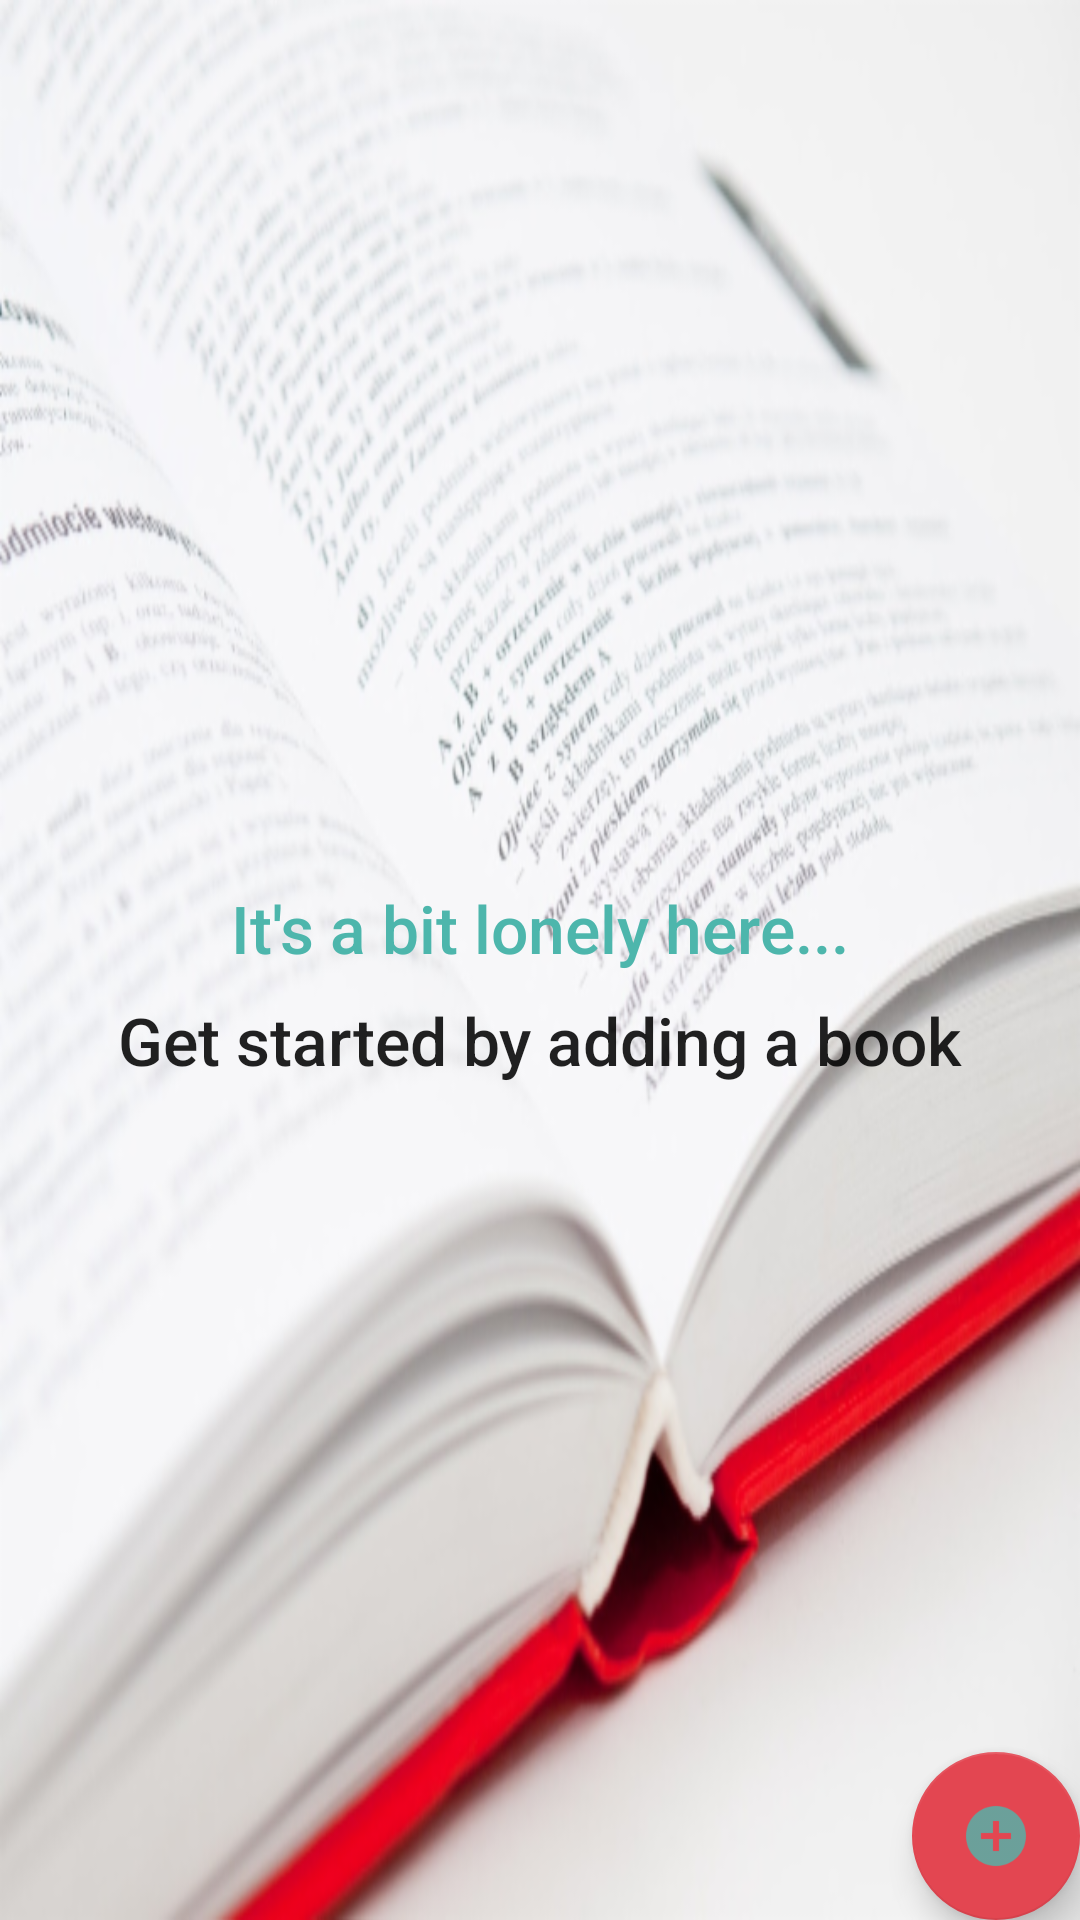

Locate icon controls on the screen. Image size 1080x1920, boxes as (x1, y1, x2, y2).
add book: (912, 1752, 1080, 1920)
